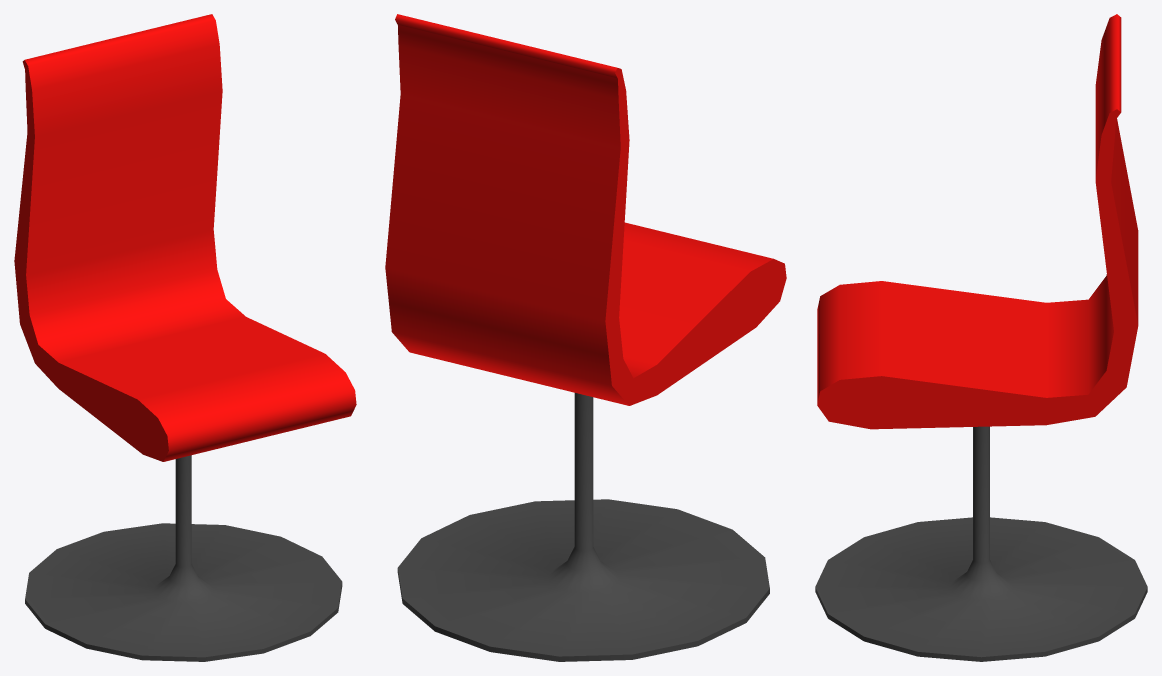
File: Chaise_Rouge.FBX
3 renders of one model, left to right at view 1: azimuth 30°, elevation 25°; view 2: azimuth 150°, elevation 25°; view 3: azimuth 270°, elevation 25°, orthographic. The views are drawn at different scales.
Parts seen in each view (by area): view 1: Cylinder001; view 2: Cylinder001; view 3: Cylinder001.
Boxes of the visible parts, x1,y1,x2,y2 form: Cylinder001: (14,14,356,661); Cylinder001: (385,14,786,661); Cylinder001: (815,14,1147,661).
Size of the model in its own units: 65.15 by 115 by 65.15.
